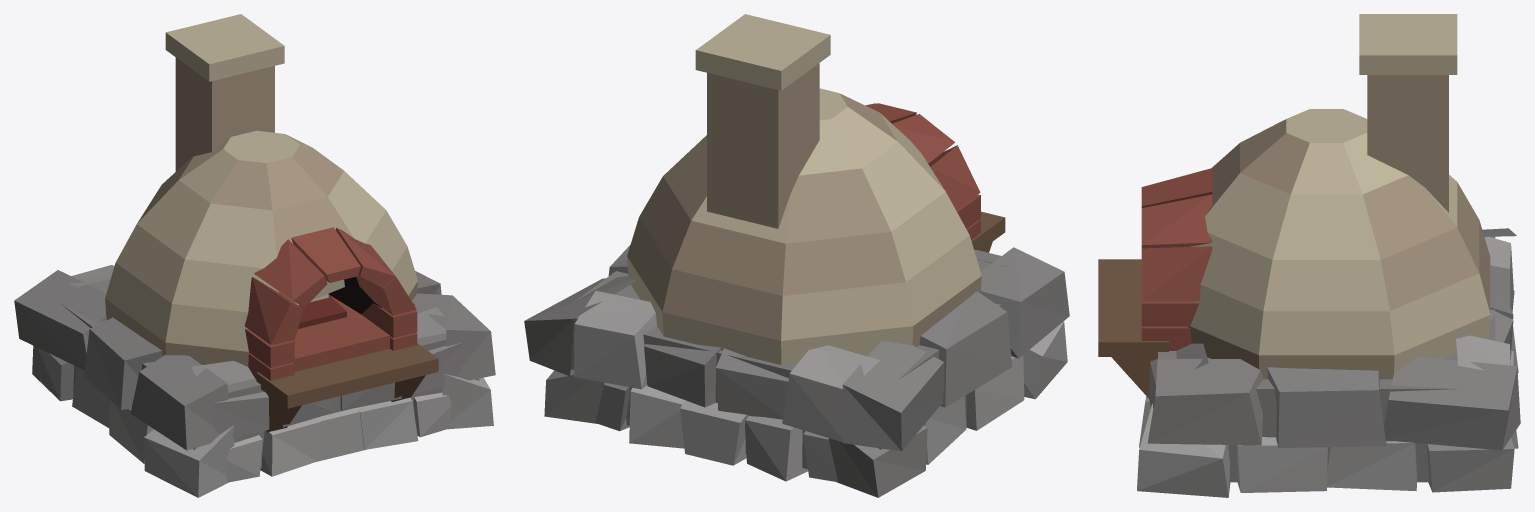
The model's file is clay-bread-oven-860b06.glb.
3 renders of one model, left to right at view 1: azimuth 30°, elevation 25°; view 2: azimuth 150°, elevation 25°; view 3: azimuth 270°, elevation 25°, orthographic. The views are drawn at different scales.
Visible parts, largest first — view 1: oven-body, fuel; view 2: oven-body; view 3: oven-body.
Part boxes in pixels (bbox=[...]): oven-body: bbox=[14, 14, 495, 497]; fuel: bbox=[280, 279, 346, 328]; oven-body: bbox=[524, 14, 1069, 497]; oven-body: bbox=[1098, 14, 1520, 497].
Size of the model in its own units: 1.59 by 1.52 by 1.55.
